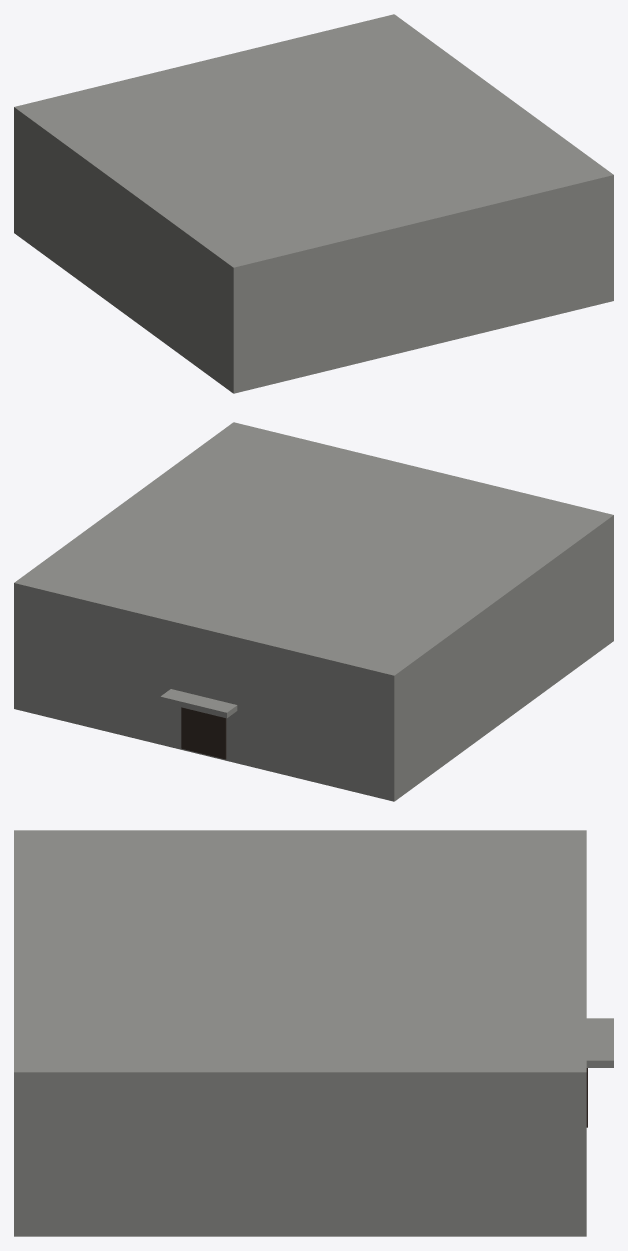
File: tw_slab_24_base_lod1.glb
3 views of the same model, one above another, from view 1: azimuth 30°, elevation 25°; view 2: azimuth 150°, elevation 25°; view 3: azimuth 270°, elevation 25° (orthographic). The views are drawn at different scales.
Parts seen in each view (by area): view 1: tw_slab_24_base_lod1; view 2: tw_slab_24_base_lod1; view 3: tw_slab_24_base_lod1.
Part boxes in pixels (box(x1,y1,x2,y2)): tw_slab_24_base_lod1: box(14, 14, 613, 393); tw_slab_24_base_lod1: box(14, 422, 613, 801); tw_slab_24_base_lod1: box(14, 830, 613, 1236).
Bounding box in the file's own units: 24 × 7.6 × 25.15.
Materials: 1 (1 with a texture image).
